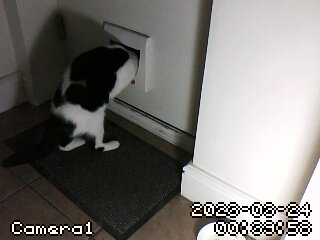bad: (30, 35, 147, 160)
